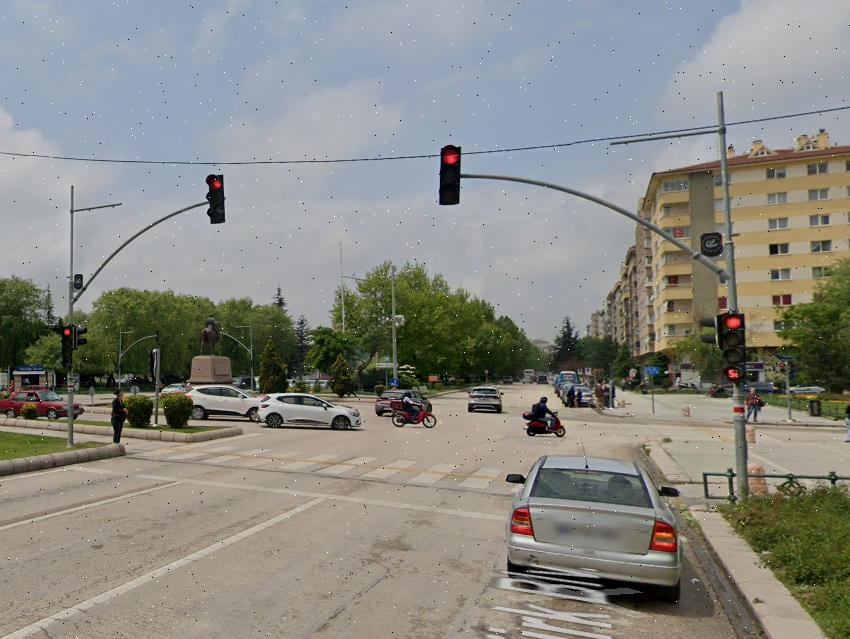redlight: (723, 312, 744, 368), (441, 145, 460, 197), (206, 174, 225, 222), (61, 327, 72, 353)
